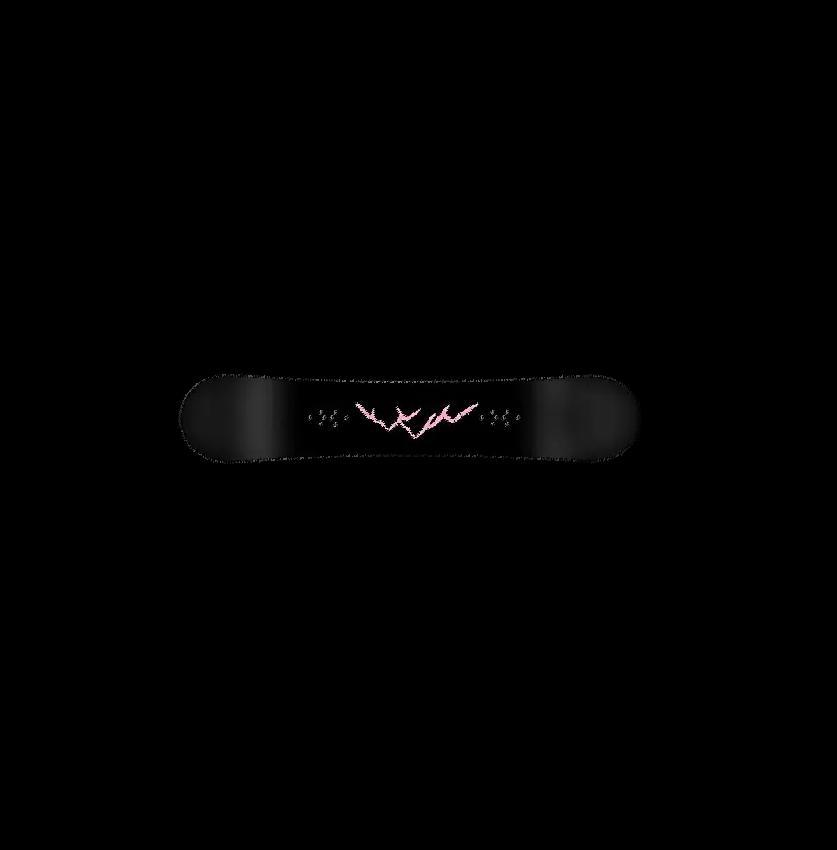Snowboard: (177, 371, 640, 465)
